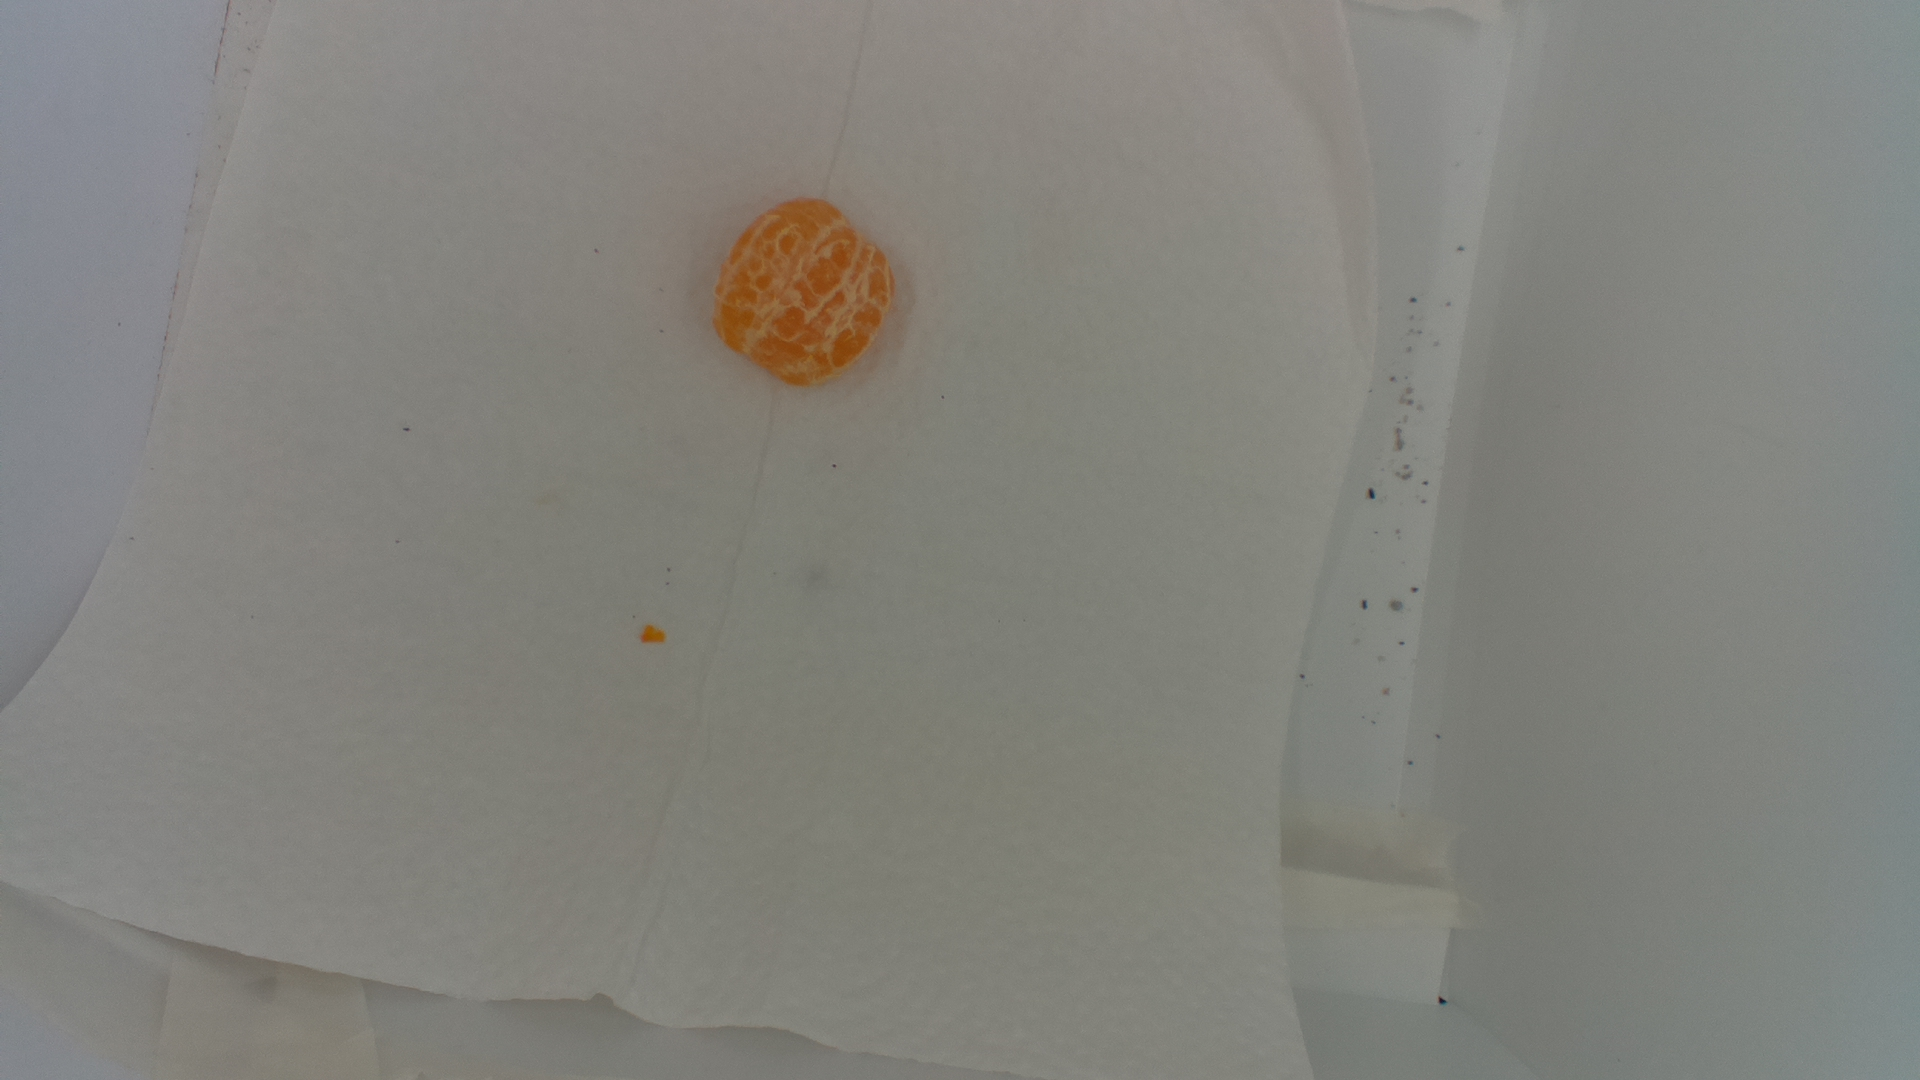fruit: (709, 190, 899, 389)
